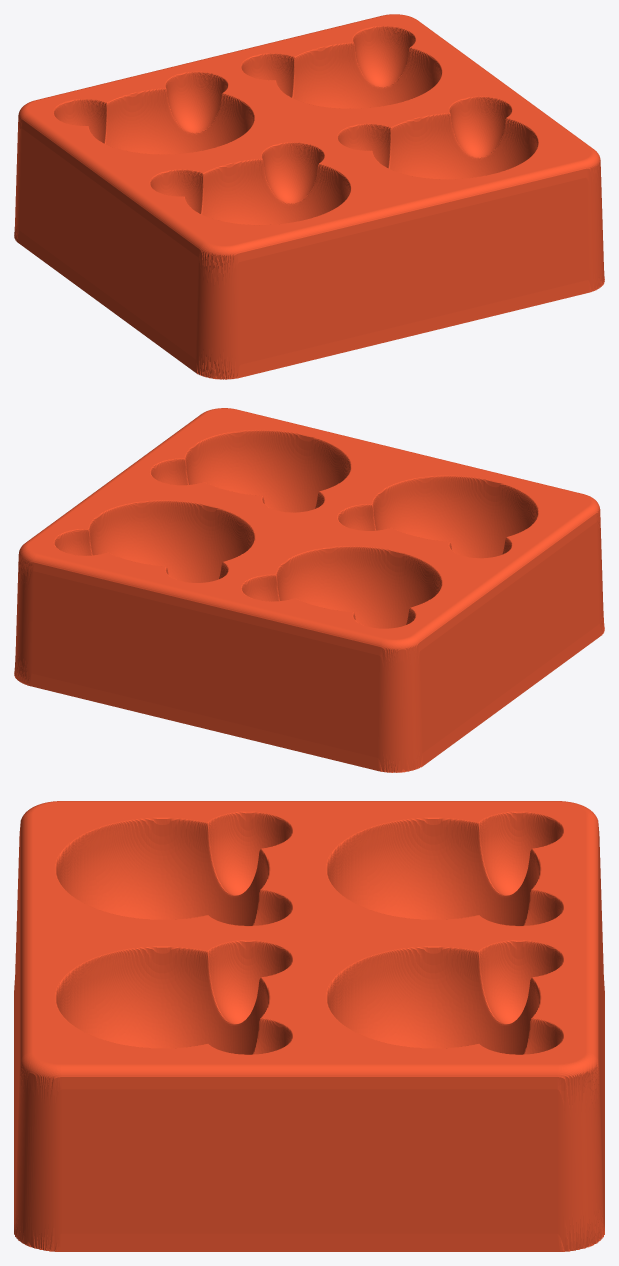
Rendered from mold.glb.
3 renders of one model, top to bottom at view 1: azimuth 30°, elevation 25°; view 2: azimuth 150°, elevation 25°; view 3: azimuth 270°, elevation 25°, orthographic. The views are drawn at different scales.
Visible parts, largest first — view 1: geometry_0; view 2: geometry_0; view 3: geometry_0.
Boxes of the visible parts, x1,y1,x2,y2 form: geometry_0: [14, 14, 604, 379]; geometry_0: [14, 408, 604, 772]; geometry_0: [14, 801, 604, 1251].
Bounding box in the file's own units: 0.1252 × 0.0377 × 0.1125.
